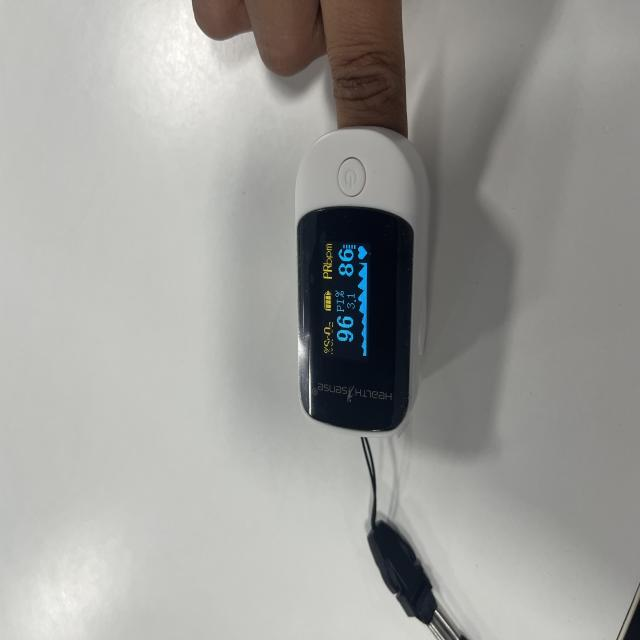spo2: (294, 127, 431, 434)
